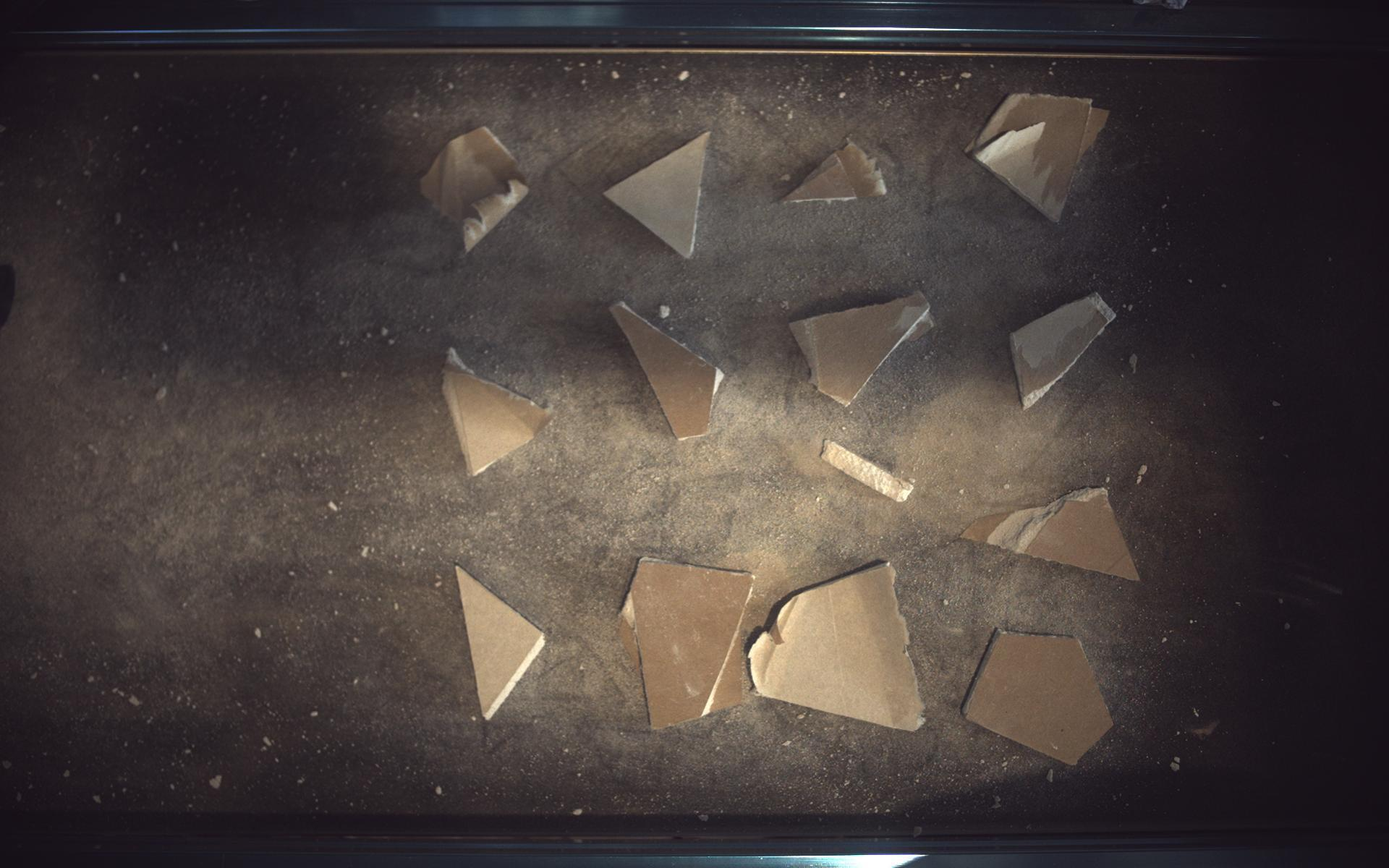gypsum_board: (750, 564, 925, 732), (619, 558, 755, 730), (964, 631, 1116, 766), (968, 93, 1110, 221), (791, 291, 936, 405), (964, 488, 1141, 581), (611, 301, 725, 440), (443, 348, 553, 476), (455, 566, 546, 720), (420, 126, 529, 251), (605, 131, 710, 258), (1013, 292, 1118, 409), (786, 138, 888, 201), (823, 441, 916, 503)
